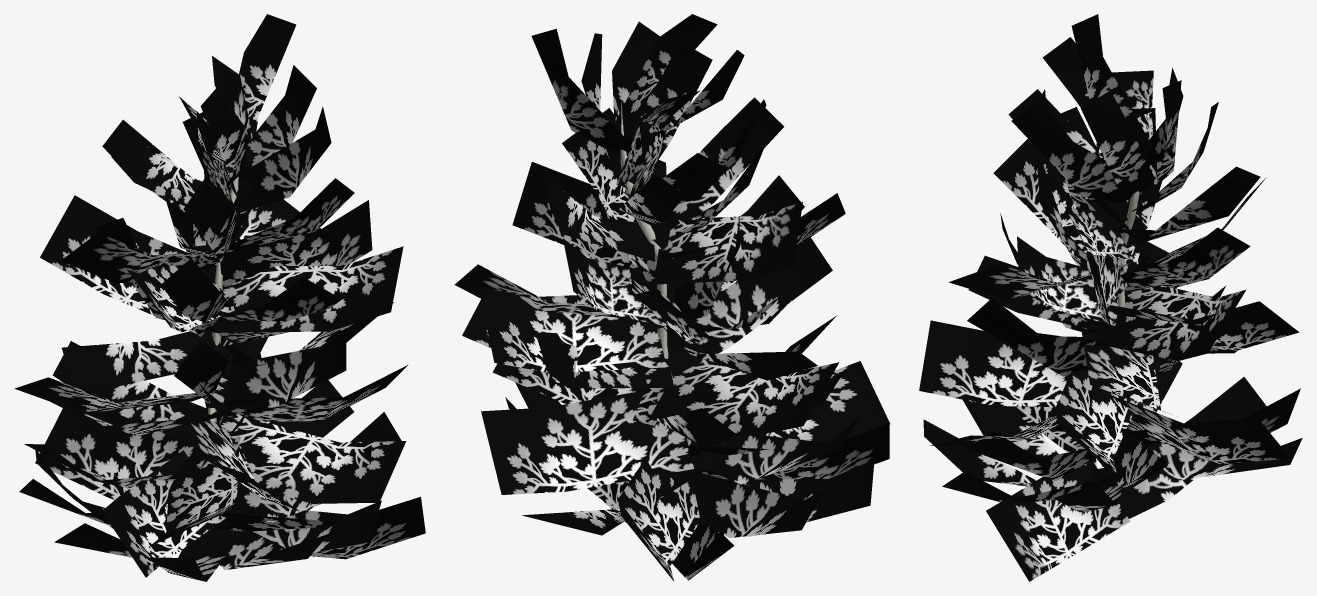
Rendered from SM_Plant_06.glb.
3 renders of one model, left to right at view 1: azimuth 30°, elevation 25°; view 2: azimuth 150°, elevation 25°; view 3: azimuth 270°, elevation 25°, orthographic. The views are drawn at different scales.
Parts seen in each view (by area): view 1: SM_Plant_06; view 2: SM_Plant_06; view 3: SM_Plant_06.
Part boxes in pixels (x1,y1,x2,y2): SM_Plant_06: [14, 14, 425, 581]; SM_Plant_06: [454, 14, 889, 580]; SM_Plant_06: [919, 14, 1302, 581].
Size of the model in its own units: 1.36 by 1.91 by 1.32.
2 materials, 1 textured.
